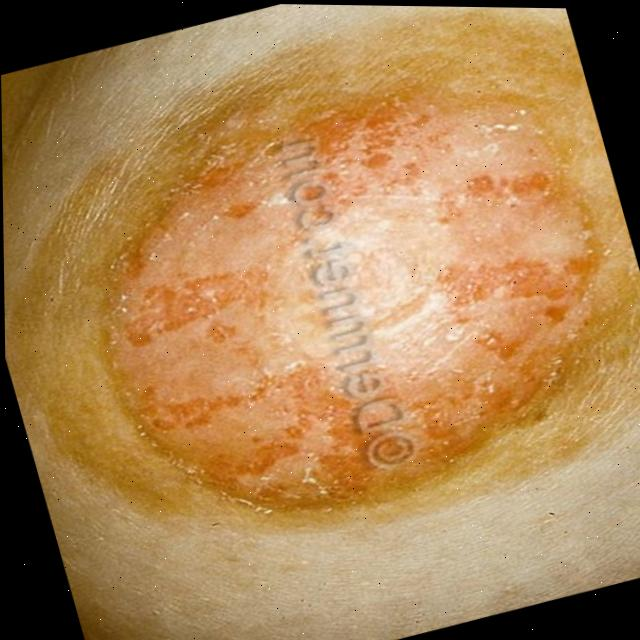Eczema: (80, 102, 640, 540)
